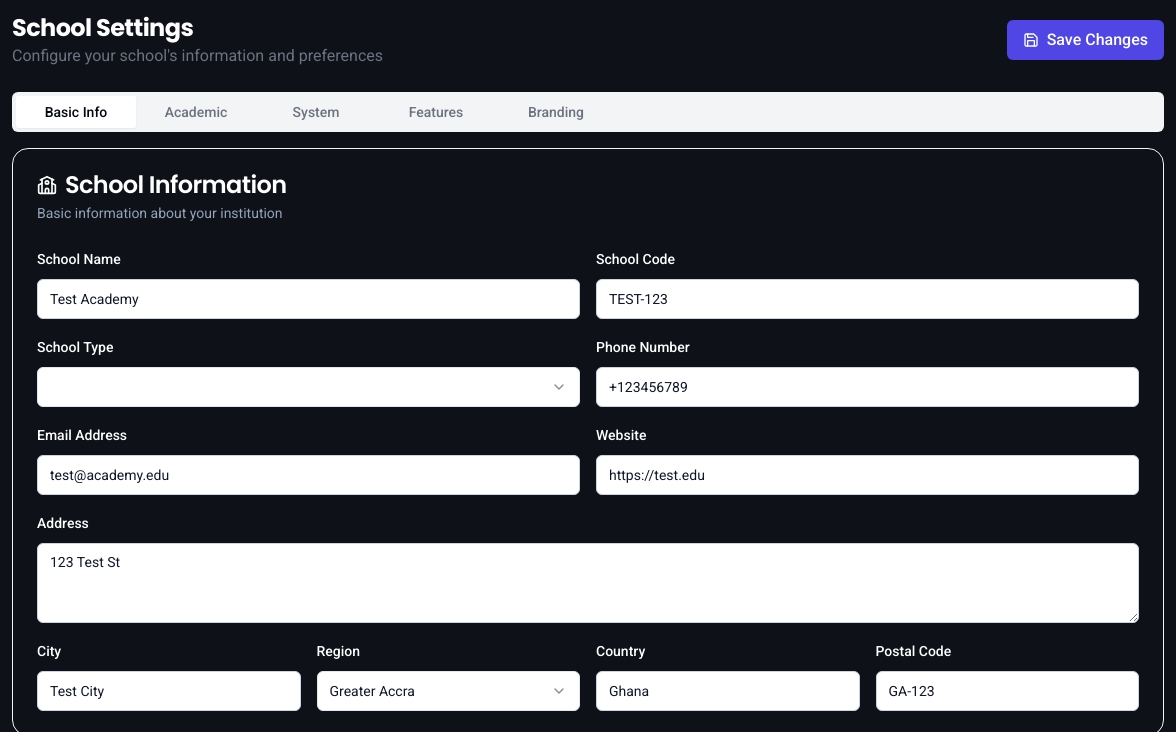
Scenario: SchoolSettings › handles tab switching
Expected: the tab "Basic Info" is shown, [16,96,136,128]
Click the tab "Academic": click(196, 112) [136,96,256,128]
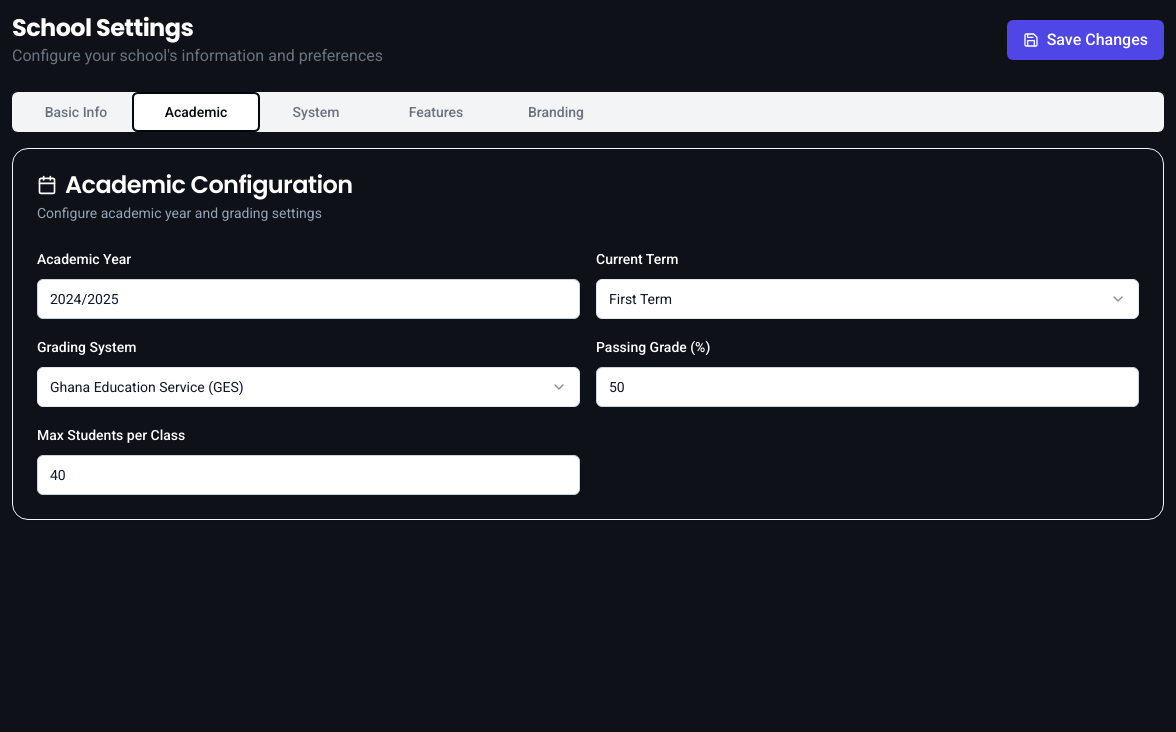
Expected: the field labelled "Academic Year" is shown, [37,279,580,319]
